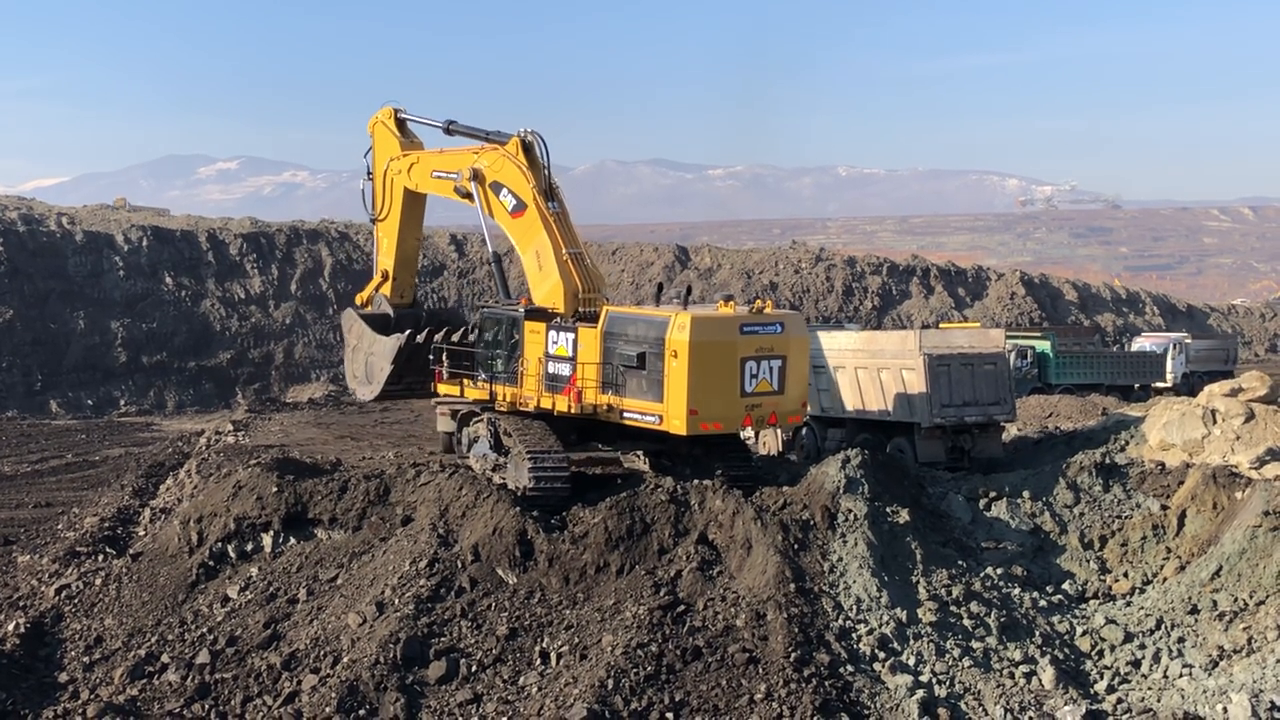empty: (340, 293, 482, 411)
